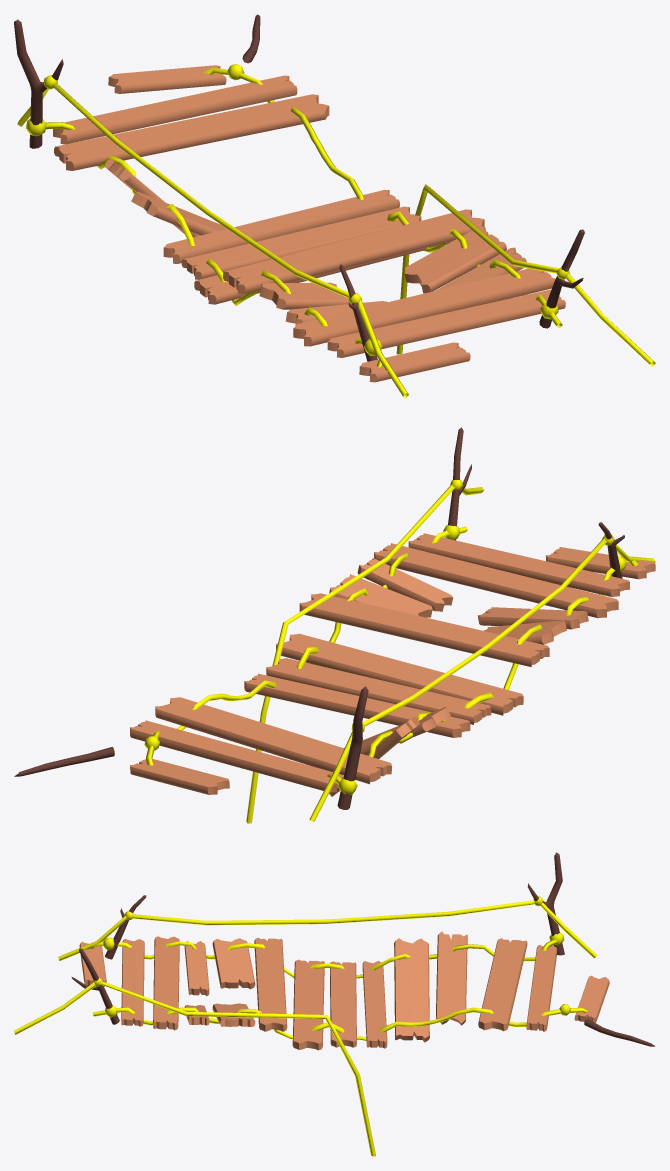
Rendered from bridge_destroyed.fbx.
3 views of the same model, one above another, from view 1: azimuth 30°, elevation 25°; view 2: azimuth 150°, elevation 25°; view 3: azimuth 270°, elevation 25° (orthographic). The views are drawn at different scales.
Parts seen in each view (by area): view 1: bridge_planks.001, bridge_string.001, bridge_sticks.001; view 2: bridge_planks.001, bridge_string.001, bridge_sticks.001; view 3: bridge_planks.001, bridge_string.001, bridge_sticks.001.
Boxes of the visible parts, x1,y1,x2,y2 form: bridge_planks.001: (53, 65, 565, 382); bridge_string.001: (17, 64, 655, 398); bridge_sticks.001: (14, 14, 584, 361); bridge_planks.001: (130, 533, 655, 796); bridge_string.001: (144, 480, 655, 823); bridge_sticks.001: (14, 427, 624, 809); bridge_planks.001: (79, 931, 609, 1050); bridge_string.001: (14, 896, 596, 1156); bridge_sticks.001: (71, 852, 655, 1046).
Size of the model in its own units: 306 by 765 by 283.
